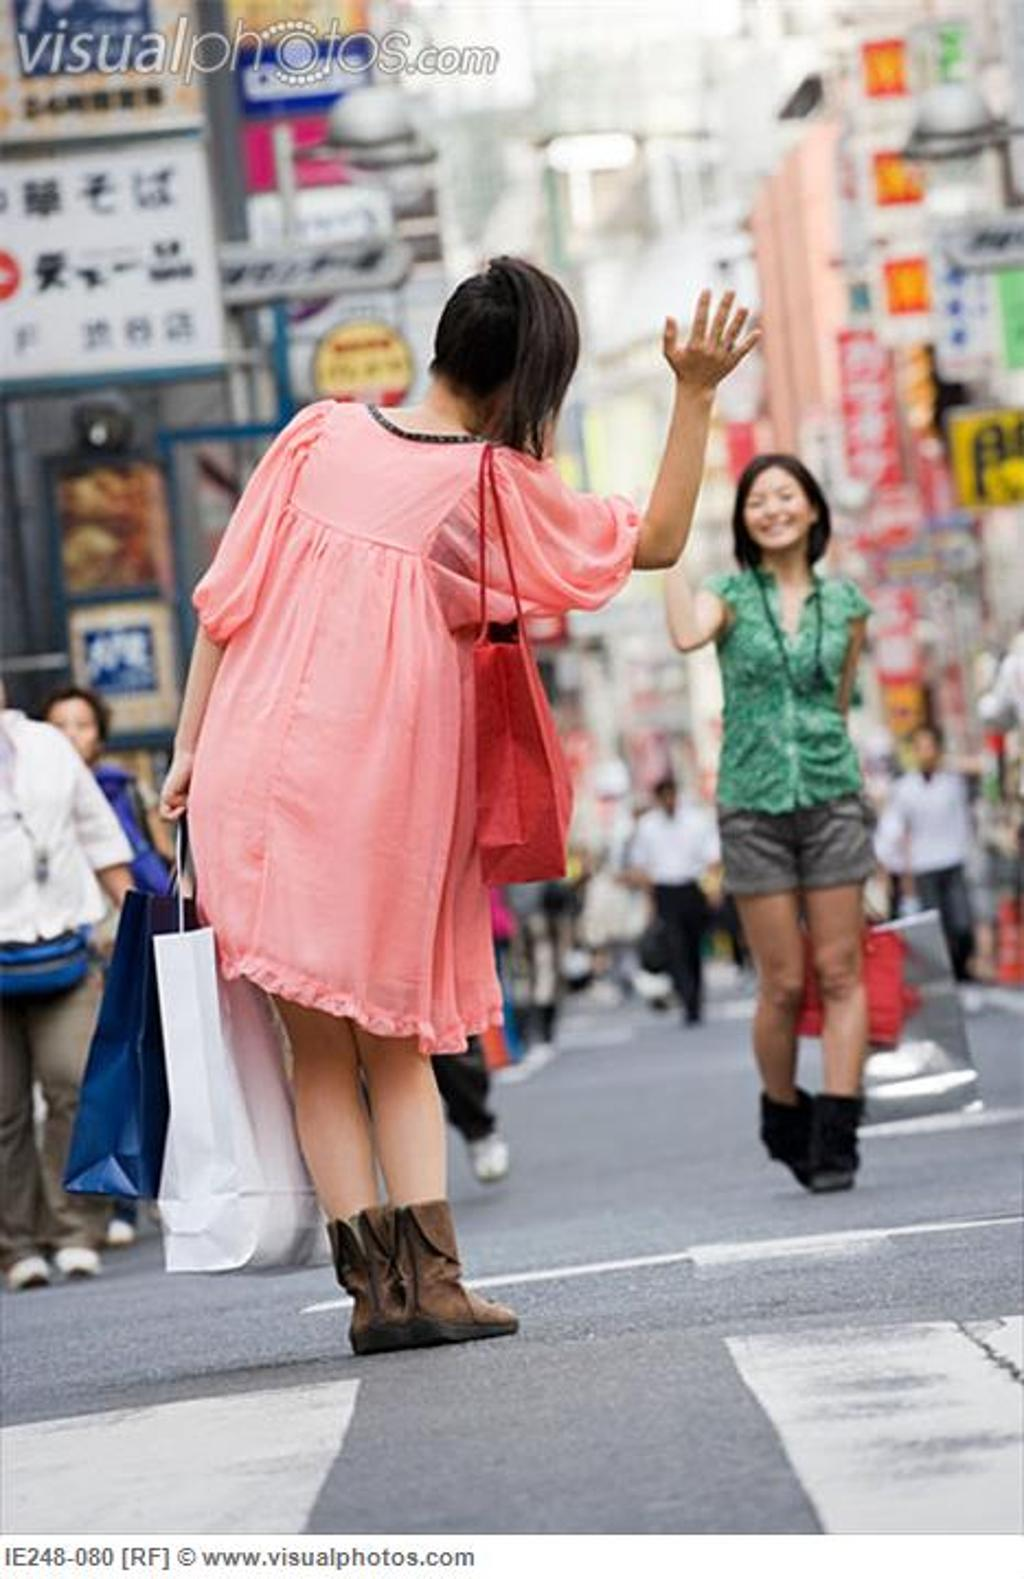face: (743, 466, 817, 559), (43, 700, 95, 786)
